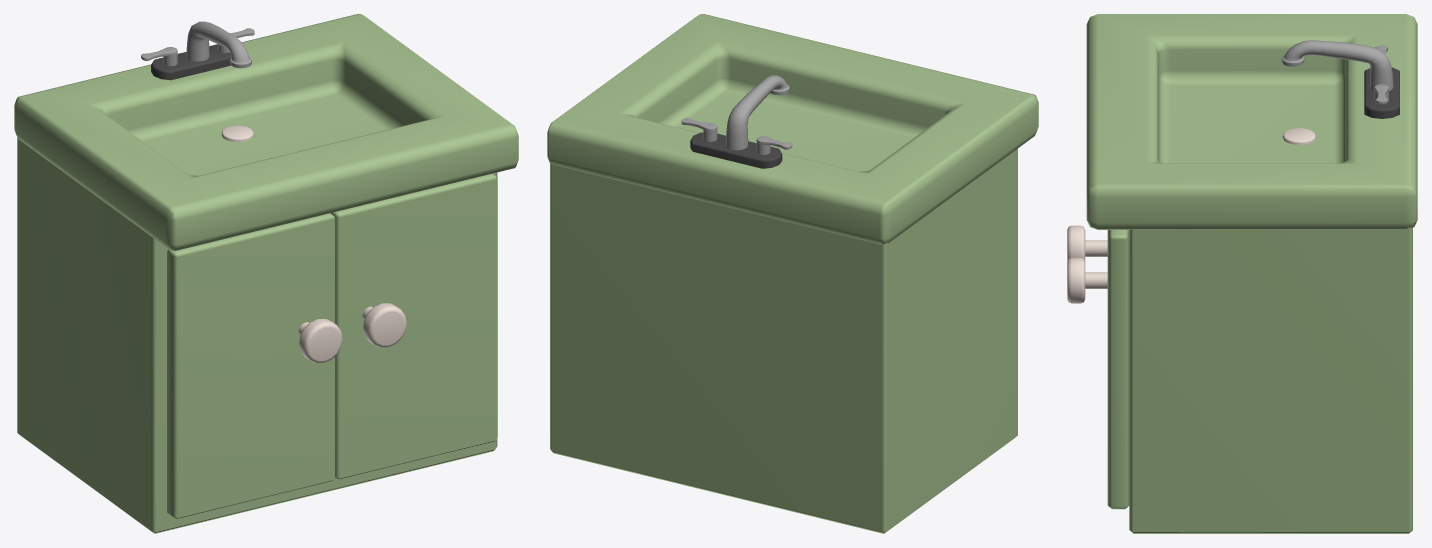
Rendered from Washstand_2.glb.
3 renders of one model, left to right at view 1: azimuth 30°, elevation 25°; view 2: azimuth 150°, elevation 25°; view 3: azimuth 270°, elevation 25°, orthographic. The views are drawn at different scales.
Visible parts, largest first — view 1: Washstand_2; view 2: Washstand_2; view 3: Washstand_2.
Boxes of the visible parts, x1,y1,x2,y2 form: Washstand_2: (14,14,518,533); Washstand_2: (547,14,1038,533); Washstand_2: (1067,14,1417,533).
Size of the model in its own units: 1.08 by 1.15 by 0.9042.
Materials: 1 (1 with a texture image).
